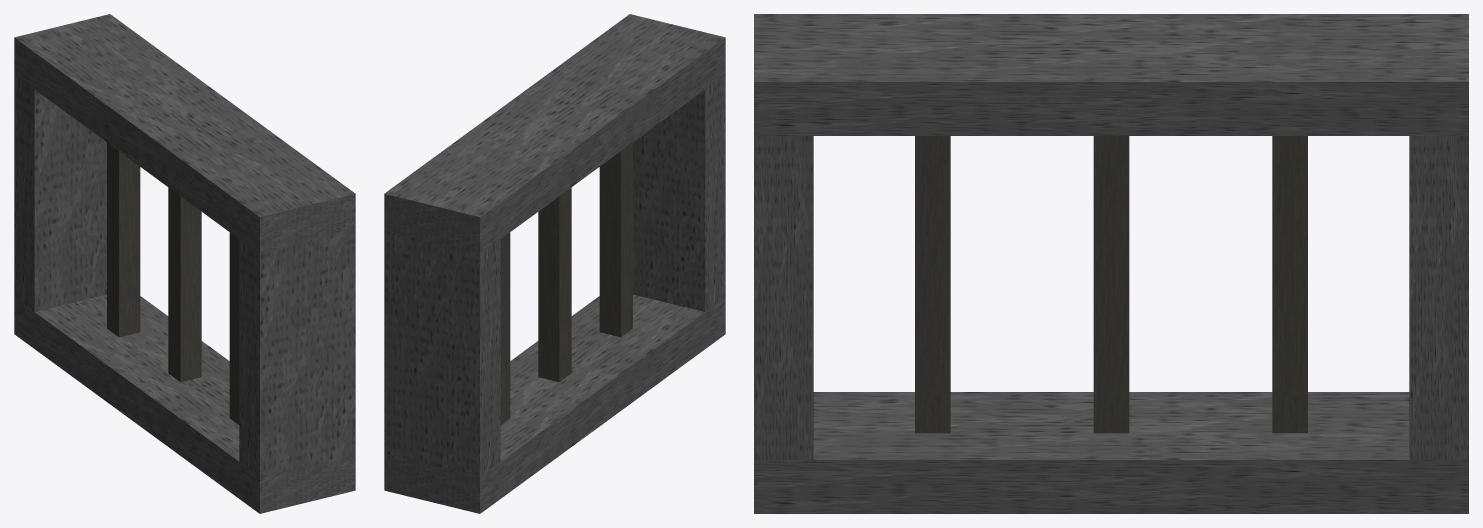
The model's file is fenetre.fbx.
The picture shows the model from 3 angles, left to right: view 1: azimuth 30°, elevation 25°; view 2: azimuth 150°, elevation 25°; view 3: azimuth 270°, elevation 25°; orthographic projection. The views are drawn at different scales.
Visible parts, largest first — view 1: Cube.006; view 2: Cube.006; view 3: Cube.006.
Part boxes in pixels (x1,y1,x2,y2): Cube.006: [14, 14, 355, 513]; Cube.006: [384, 14, 725, 513]; Cube.006: [754, 14, 1468, 513].
Size of the model in its own units: 541 by 1600 by 2400.
2 materials, 2 textured.
